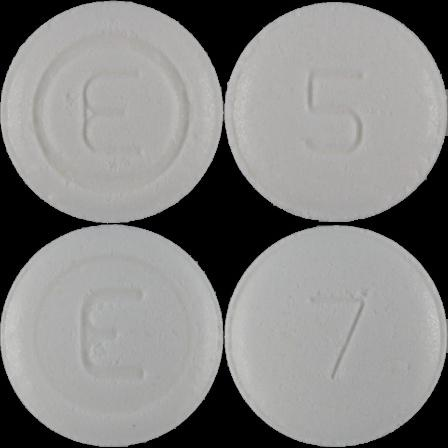33358-498: (0, 0, 224, 224)
